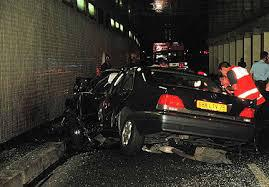doorouter-dent: (79, 91, 107, 127), (112, 90, 135, 121)
rear-bumper-dent: (164, 114, 247, 141)
